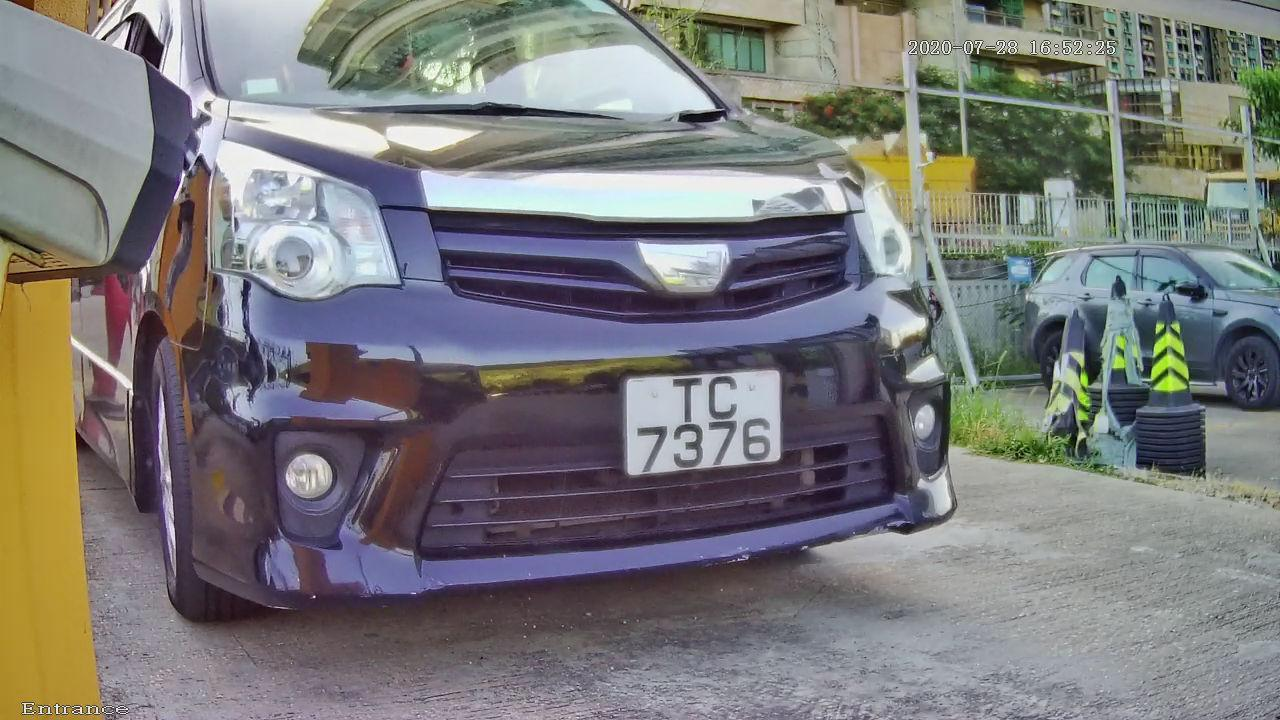privatecar: (23, 10, 1121, 656)
